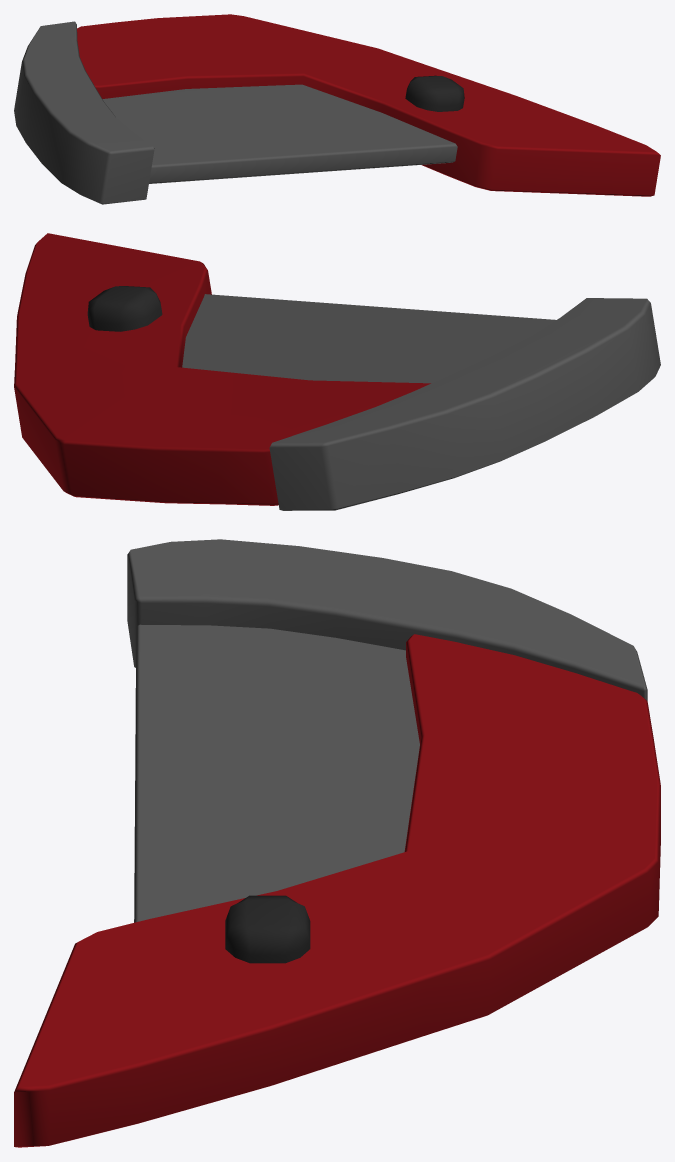
File: Ship_enemy_01_Wing_L.fbx
The picture shows the model from 3 angles, top to bottom: view 1: azimuth 30°, elevation 25°; view 2: azimuth 150°, elevation 25°; view 3: azimuth 270°, elevation 25°; orthographic projection. The views are drawn at different scales.
Visible parts, largest first — view 1: Ship_enemy_01_Wing_L; view 2: Ship_enemy_01_Wing_L; view 3: Ship_enemy_01_Wing_L.
Boxes of the visible parts, x1,y1,x2,y2 form: Ship_enemy_01_Wing_L: [14, 14, 660, 204]; Ship_enemy_01_Wing_L: [14, 233, 660, 510]; Ship_enemy_01_Wing_L: [14, 539, 660, 1147].
Bounding box in the file's own units: 236 × 60.85 × 161.
